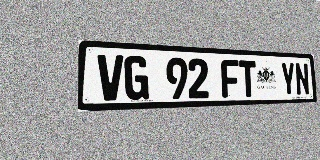2: (188, 58, 209, 99)
9: (166, 57, 188, 99)
F: (221, 59, 240, 98)
G: (124, 55, 149, 100)
N: (295, 63, 310, 96)
T: (239, 60, 257, 97)
V: (97, 54, 124, 101)
Y: (280, 62, 296, 96)
